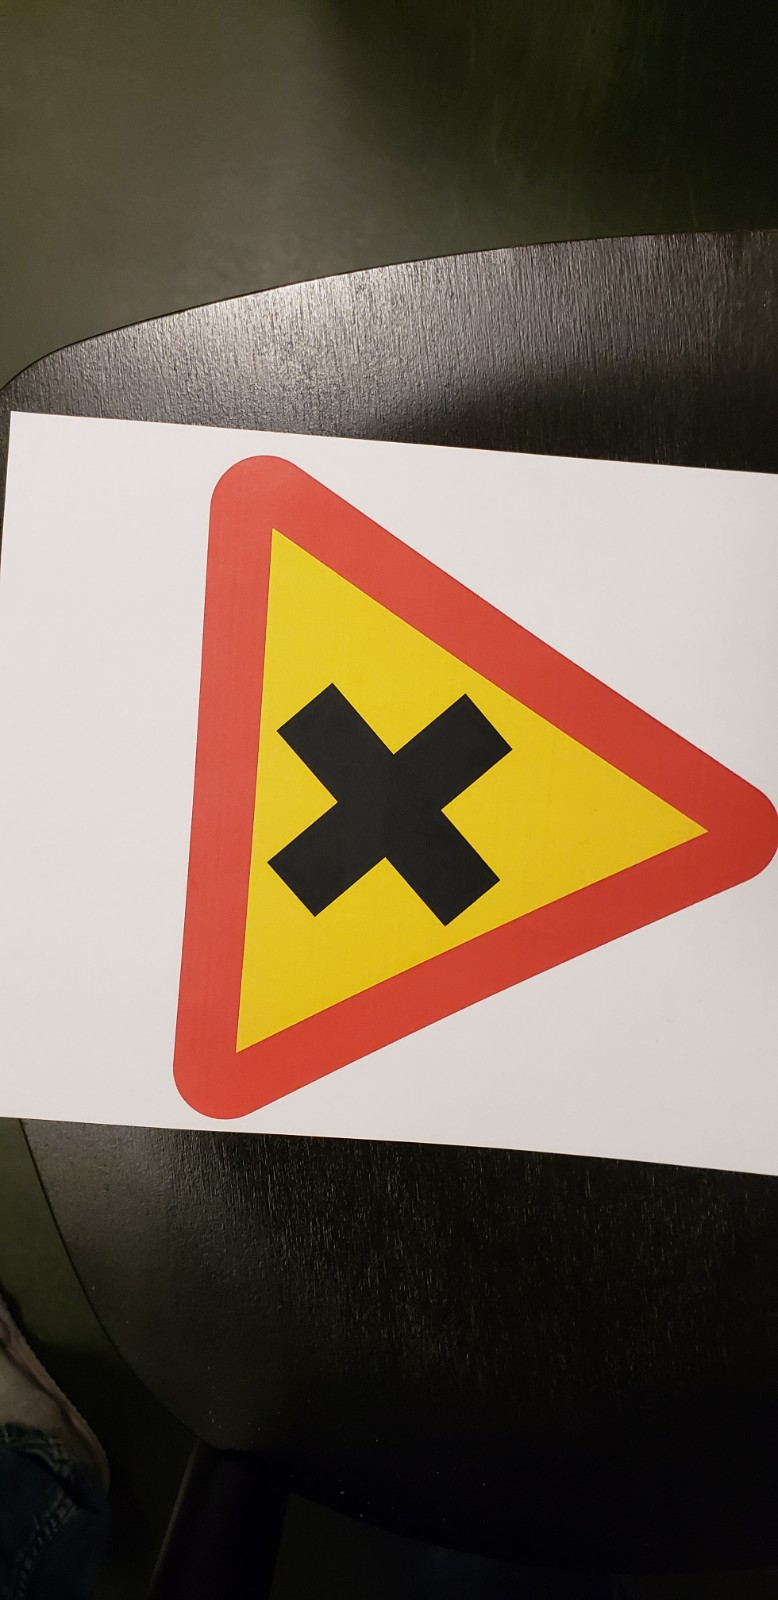junction: (166, 441, 760, 1154)
